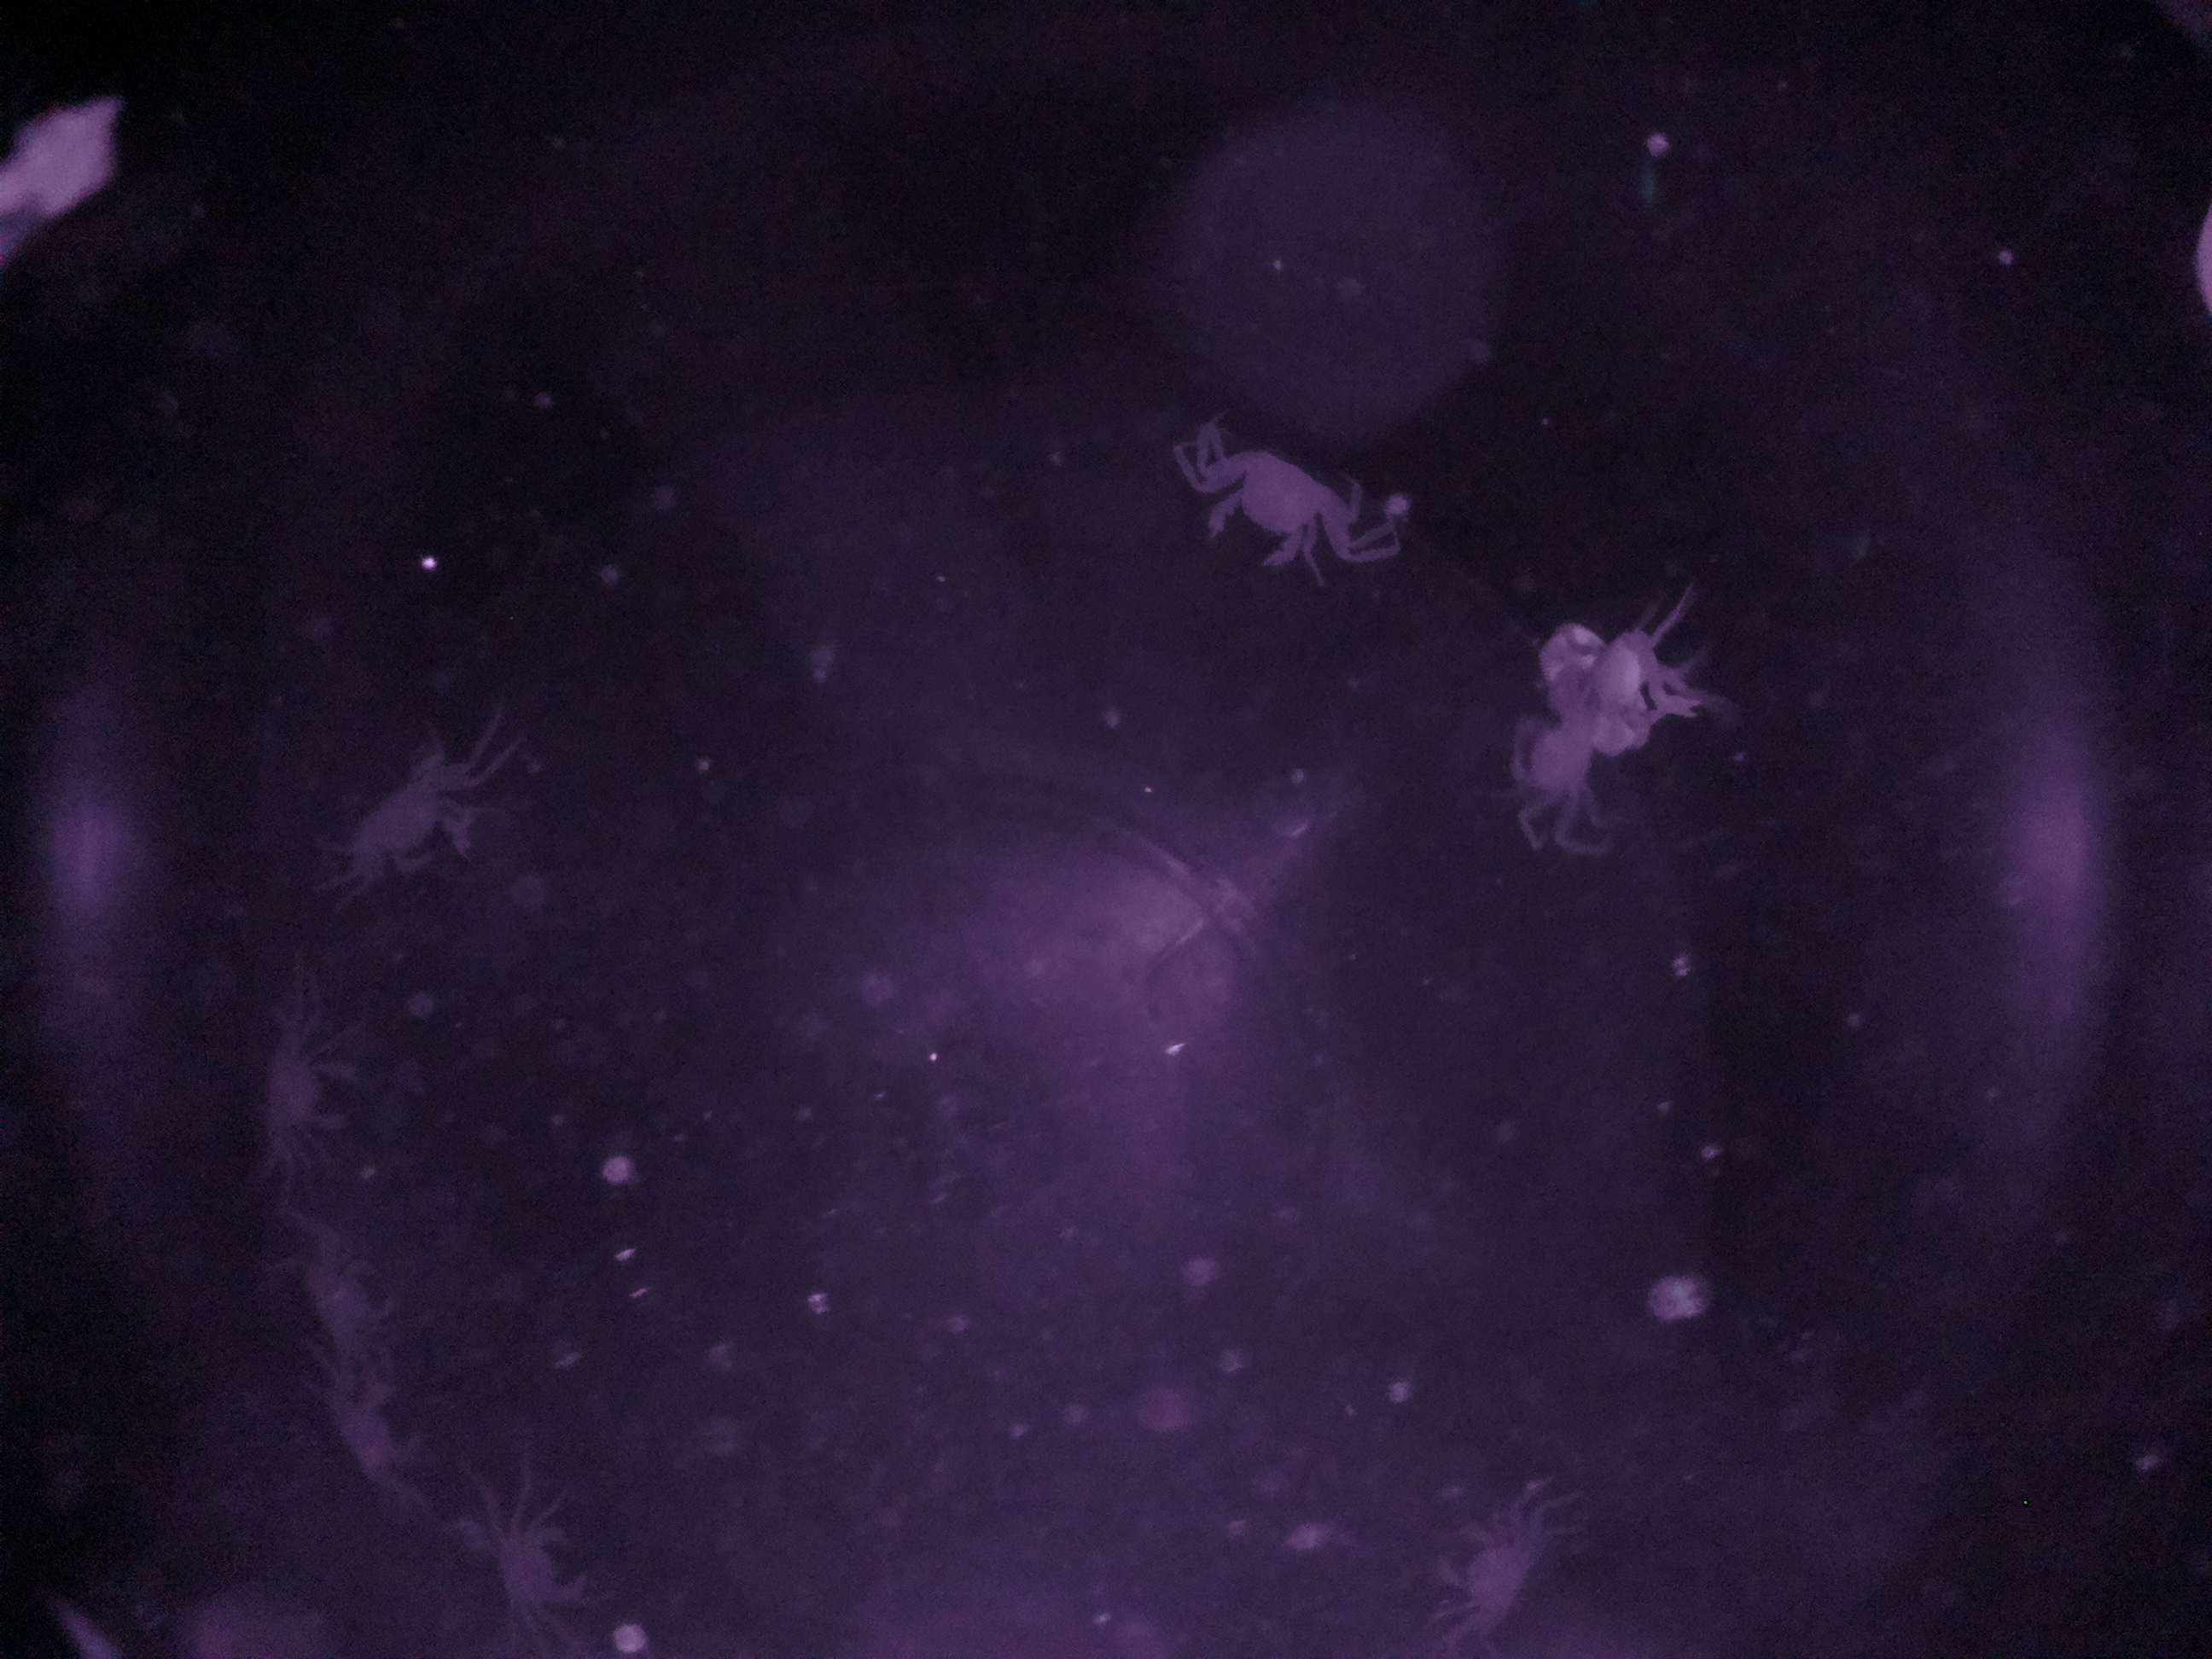Crab: (1184, 420, 1371, 599), (301, 739, 502, 904)
